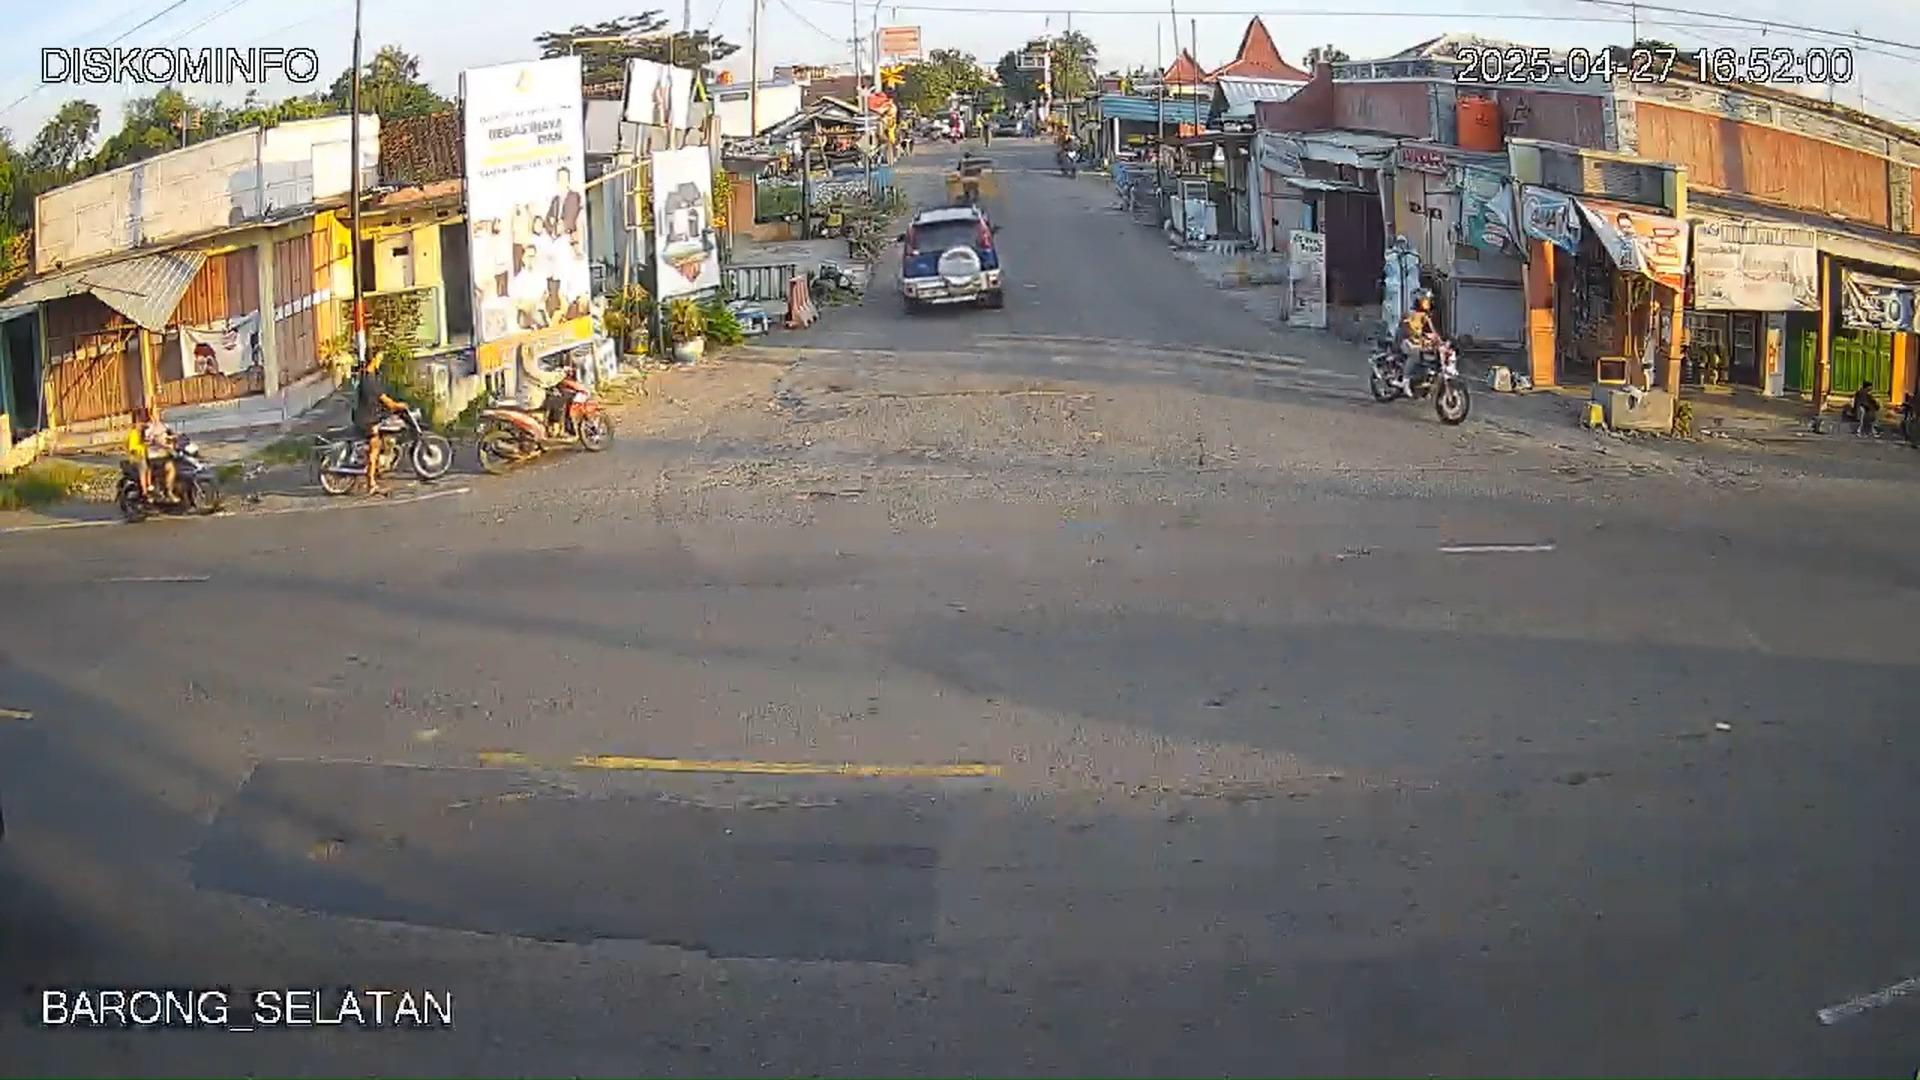Motor: (472, 376, 608, 473), (314, 402, 454, 495), (116, 436, 229, 522), (1367, 331, 1470, 422)
mobil: (898, 204, 1004, 315)
